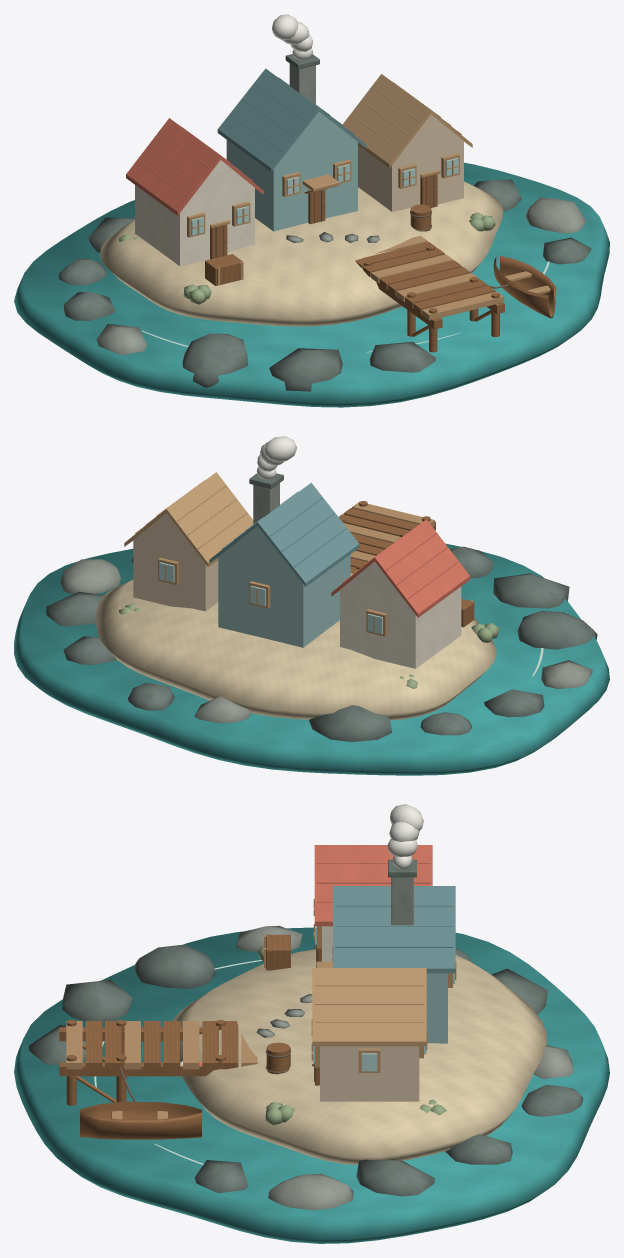
The model's file is fishing-village-v4-lod.fbx.
The picture shows the model from 3 angles, top to bottom: view 1: azimuth 30°, elevation 25°; view 2: azimuth 150°, elevation 25°; view 3: azimuth 270°, elevation 25°; orthographic projection. The views are drawn at different scales.
Visible parts, largest first — view 1: Village | collectible LOD; view 2: Village | collectible LOD; view 3: Village | collectible LOD.
Boxes of the visible parts, left/top/right/bottom form: Village | collectible LOD: left=14, top=14, right=609, bottom=407; Village | collectible LOD: left=14, top=436, right=609, bottom=775; Village | collectible LOD: left=14, top=804, right=609, bottom=1243.
Bounding box in the file's own units: 171 × 78.25 × 144.
Materials: 17 (7 with a texture image).
